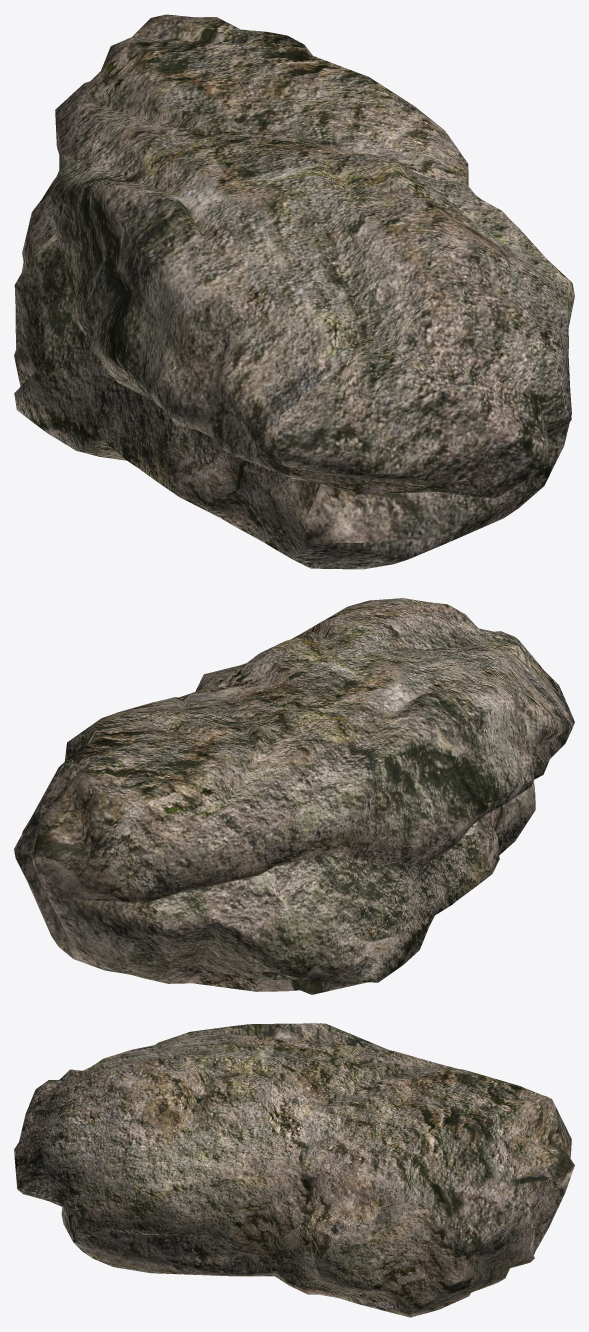
File: BigRock1.glb
3 views of the same model, one above another, from view 1: azimuth 30°, elevation 25°; view 2: azimuth 150°, elevation 25°; view 3: azimuth 270°, elevation 25° (orthographic). The views are drawn at different scales.
Visible parts, largest first — view 1: BigRockA; view 2: BigRockA; view 3: BigRockA.
Part boxes in pixels (bbox=[...]): BigRockA: bbox=[14, 14, 574, 569]; BigRockA: bbox=[14, 598, 574, 994]; BigRockA: bbox=[14, 1023, 574, 1317].
Size of the model in its own units: 4.51 by 3.08 by 7.5.
Materials: 1 (1 with a texture image).
